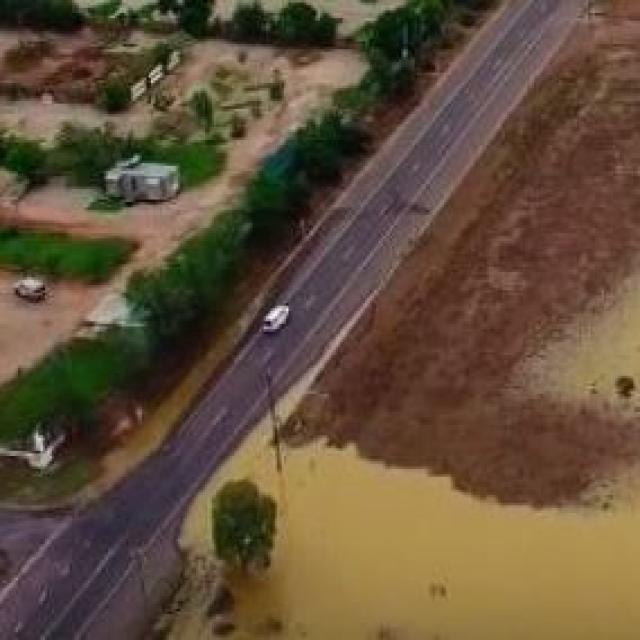flooded_areas: (162, 295, 633, 635), (7, 21, 345, 412)
